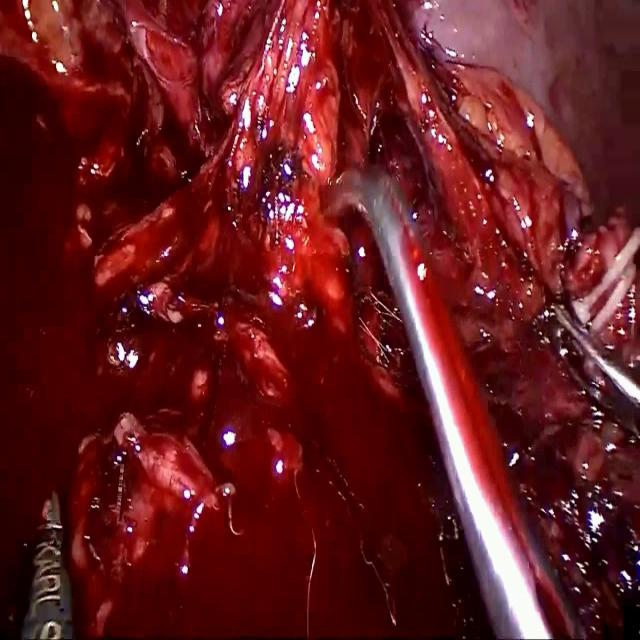surgical-tool: (320, 156, 586, 639), (546, 299, 640, 438), (19, 498, 72, 639)
